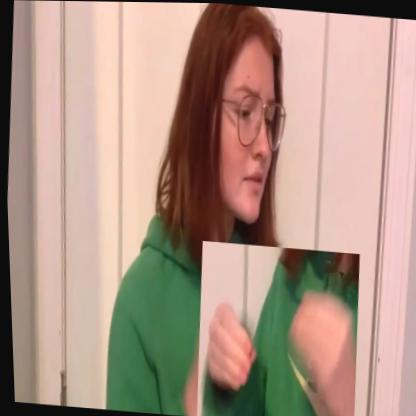Fix: (188, 240, 362, 416)
